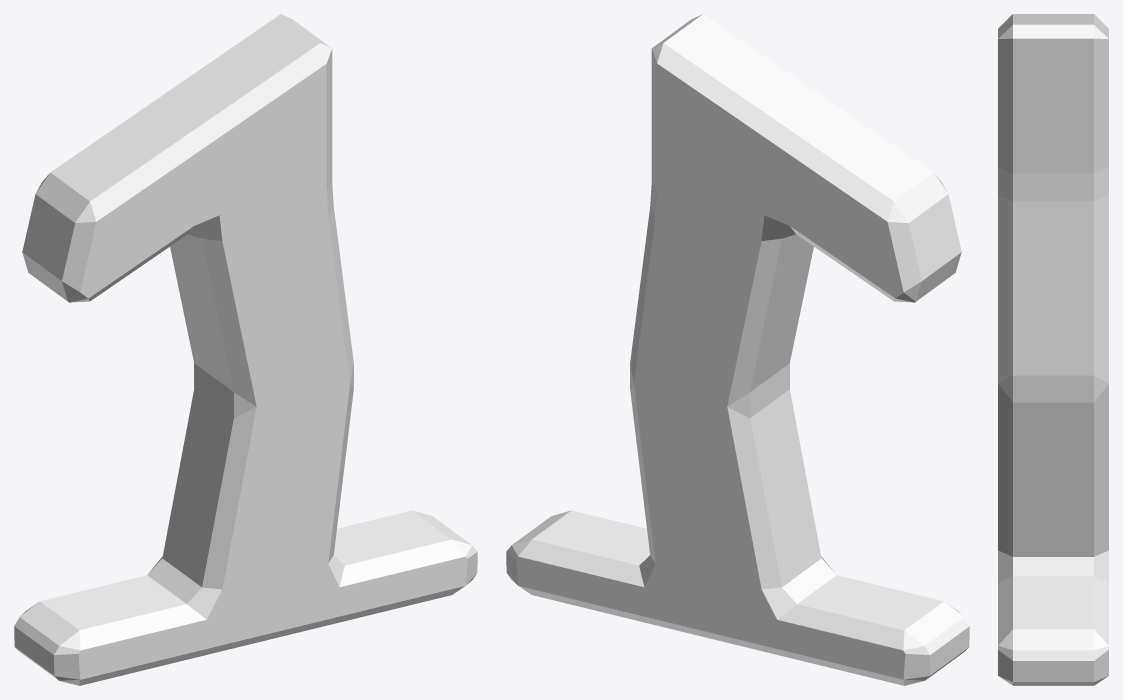
The model's file is one.glb.
The picture shows the model from 3 angles, left to right: view 1: azimuth 30°, elevation 25°; view 2: azimuth 150°, elevation 25°; view 3: azimuth 270°, elevation 25°; orthographic projection. The views are drawn at different scales.
Visible parts, largest first — view 1: One; view 2: One; view 3: One.
Part boxes in pixels (<box>): One: <box>14,14,477,685</box>; One: <box>506,14,969,685</box>; One: <box>998,14,1108,685</box>.
Bounding box in the file's own units: 0.1543 × 0.2031 × 0.0343.
Materials: 1 (1 with a texture image).
